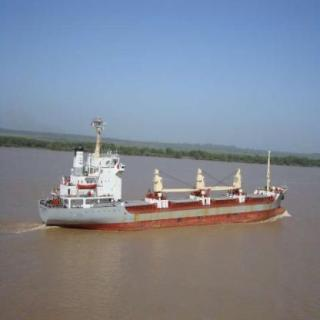Bulk Carrier: (32, 143, 293, 232)
